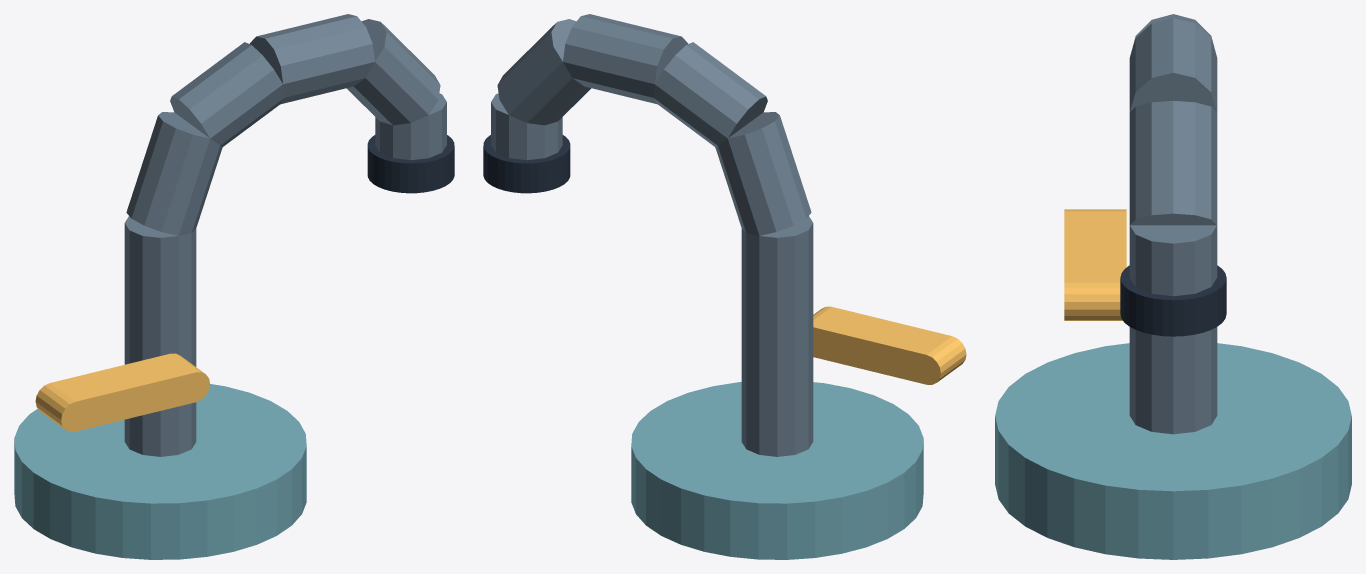
The model's file is faucet.glb.
3 renders of one model, left to right at view 1: azimuth 30°, elevation 25°; view 2: azimuth 150°, elevation 25°; view 3: azimuth 270°, elevation 25°, orthographic. The views are drawn at different scales.
Visible parts, largest first — view 1: base, pipe0, lever, pipe1, pipe3, pipe2, pipe4, outlet, pipe5; view 2: base, pipe0, lever, pipe1, pipe3, pipe2, pipe4, outlet, pipe5; view 3: base, pipe4, pipe0, pipe3, lever, pipe5, outlet.
Part boxes in pixels (<box>): base: <box>14,384,306,559</box>; pipe0: <box>124,216,196,456</box>; lever: <box>35,353,209,431</box>; pipe1: <box>126,112,222,235</box>; pipe3: <box>249,14,374,104</box>; pipe2: <box>170,42,284,146</box>; pipe4: <box>347,19,440,125</box>; outlet: <box>367,135,454,193</box>; pipe5: <box>375,93,446,160</box>; base: <box>631,382,923,559</box>; pipe0: <box>741,216,813,456</box>; lever: <box>813,306,966,384</box>; pipe1: <box>715,112,811,235</box>; pipe3: <box>563,14,688,104</box>; pipe2: <box>653,42,767,146</box>; pipe4: <box>497,19,590,125</box>; outlet: <box>483,135,570,193</box>; pipe5: <box>491,93,562,160</box>; base: <box>995,343,1351,559</box>; pipe4: <box>1129,100,1217,225</box>; pipe0: <box>1129,327,1217,434</box>; pipe3: <box>1129,18,1217,111</box>; lever: <box>1064,209,1126,320</box>; pipe5: <box>1129,225,1217,296</box>; outlet: <box>1120,265,1226,336</box>.
Bounding box in the file's own units: 1.36 × 1.31 × 0.8.
